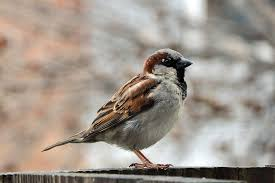hsparrow: (41, 44, 197, 171)
